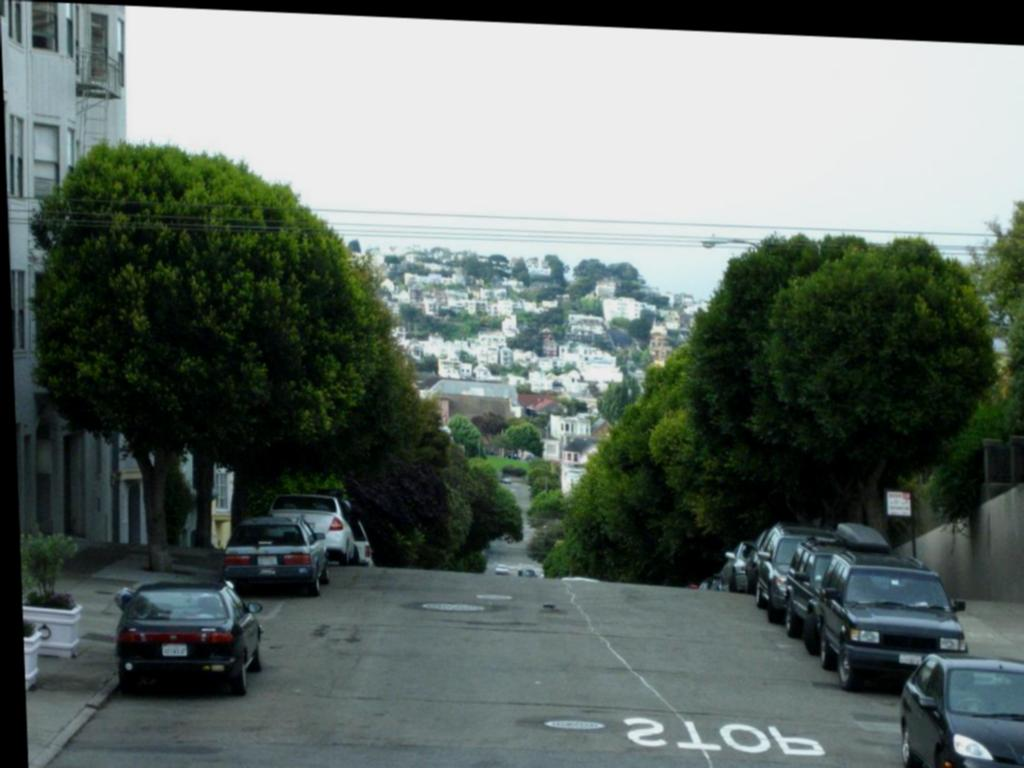License_Plate: (159, 640, 189, 657), (900, 655, 921, 666), (257, 556, 278, 565)
